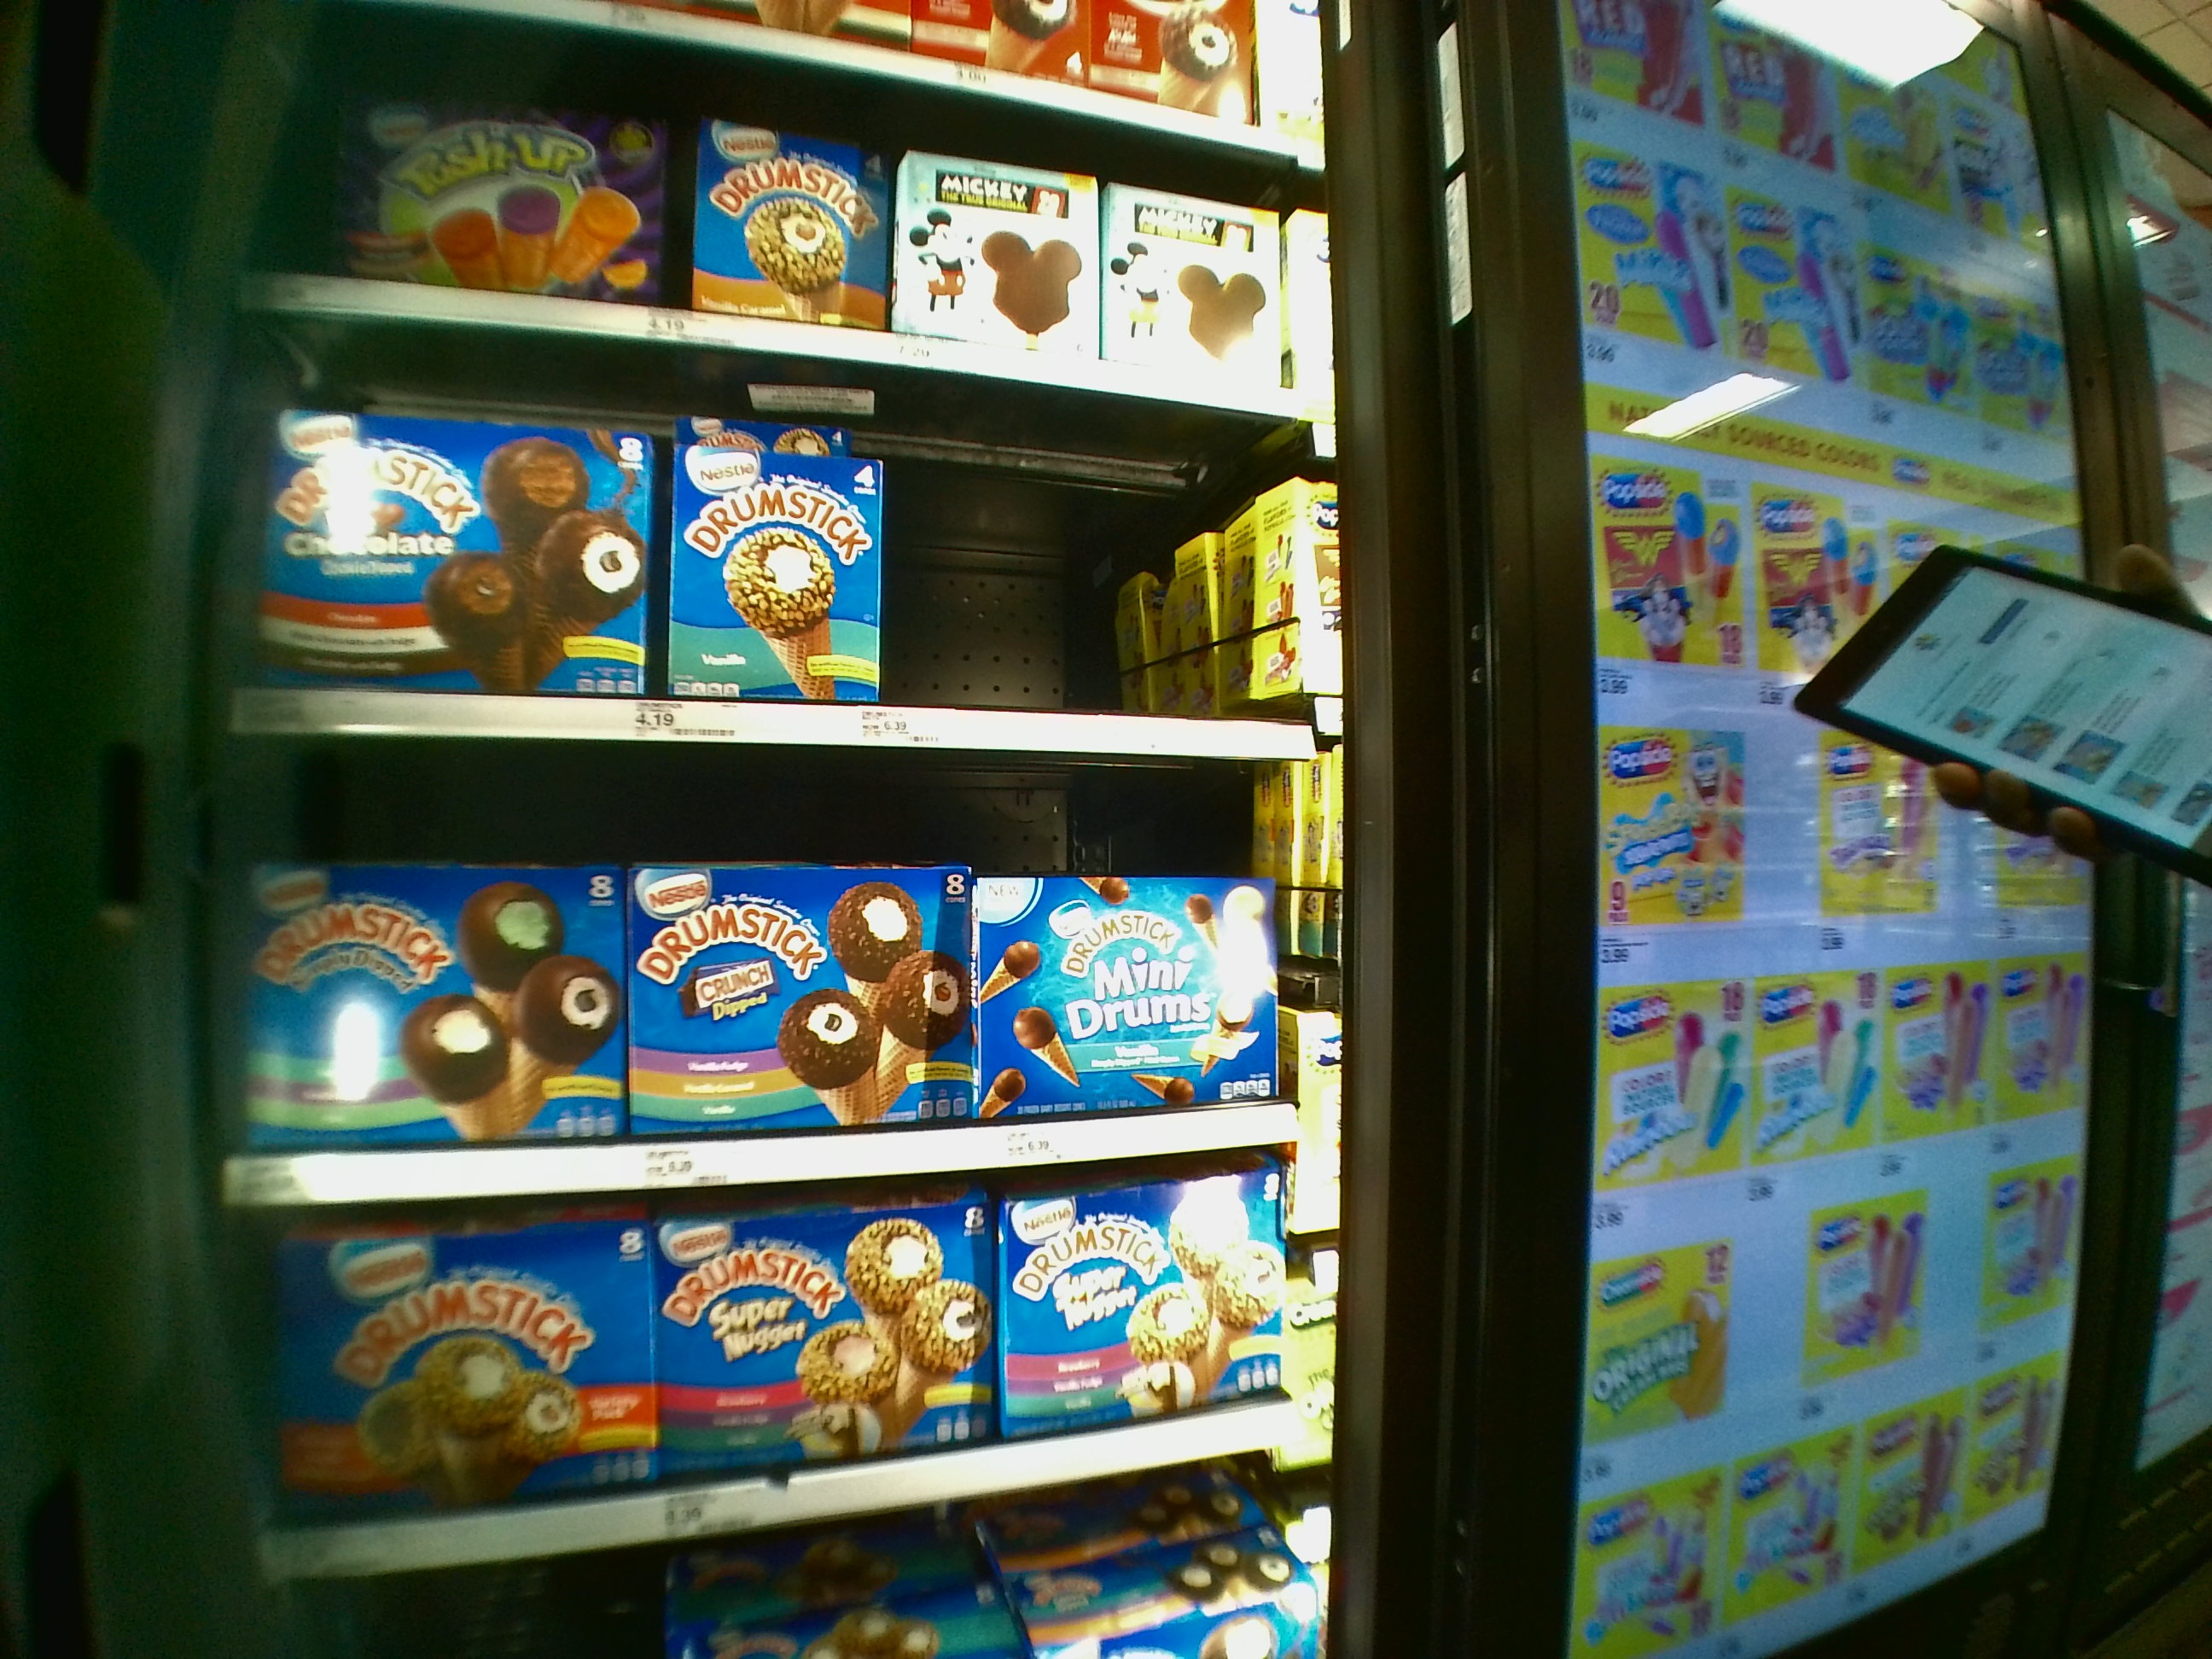shelf: (214, 748, 1327, 1182), (211, 383, 1336, 739), (249, 1190, 1317, 1539), (230, 99, 1317, 389)
